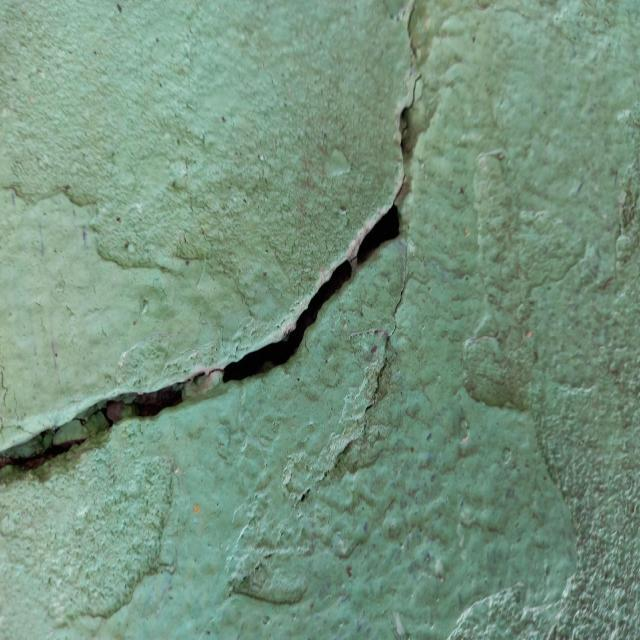SurfaceCrack: (1, 0, 473, 512)
